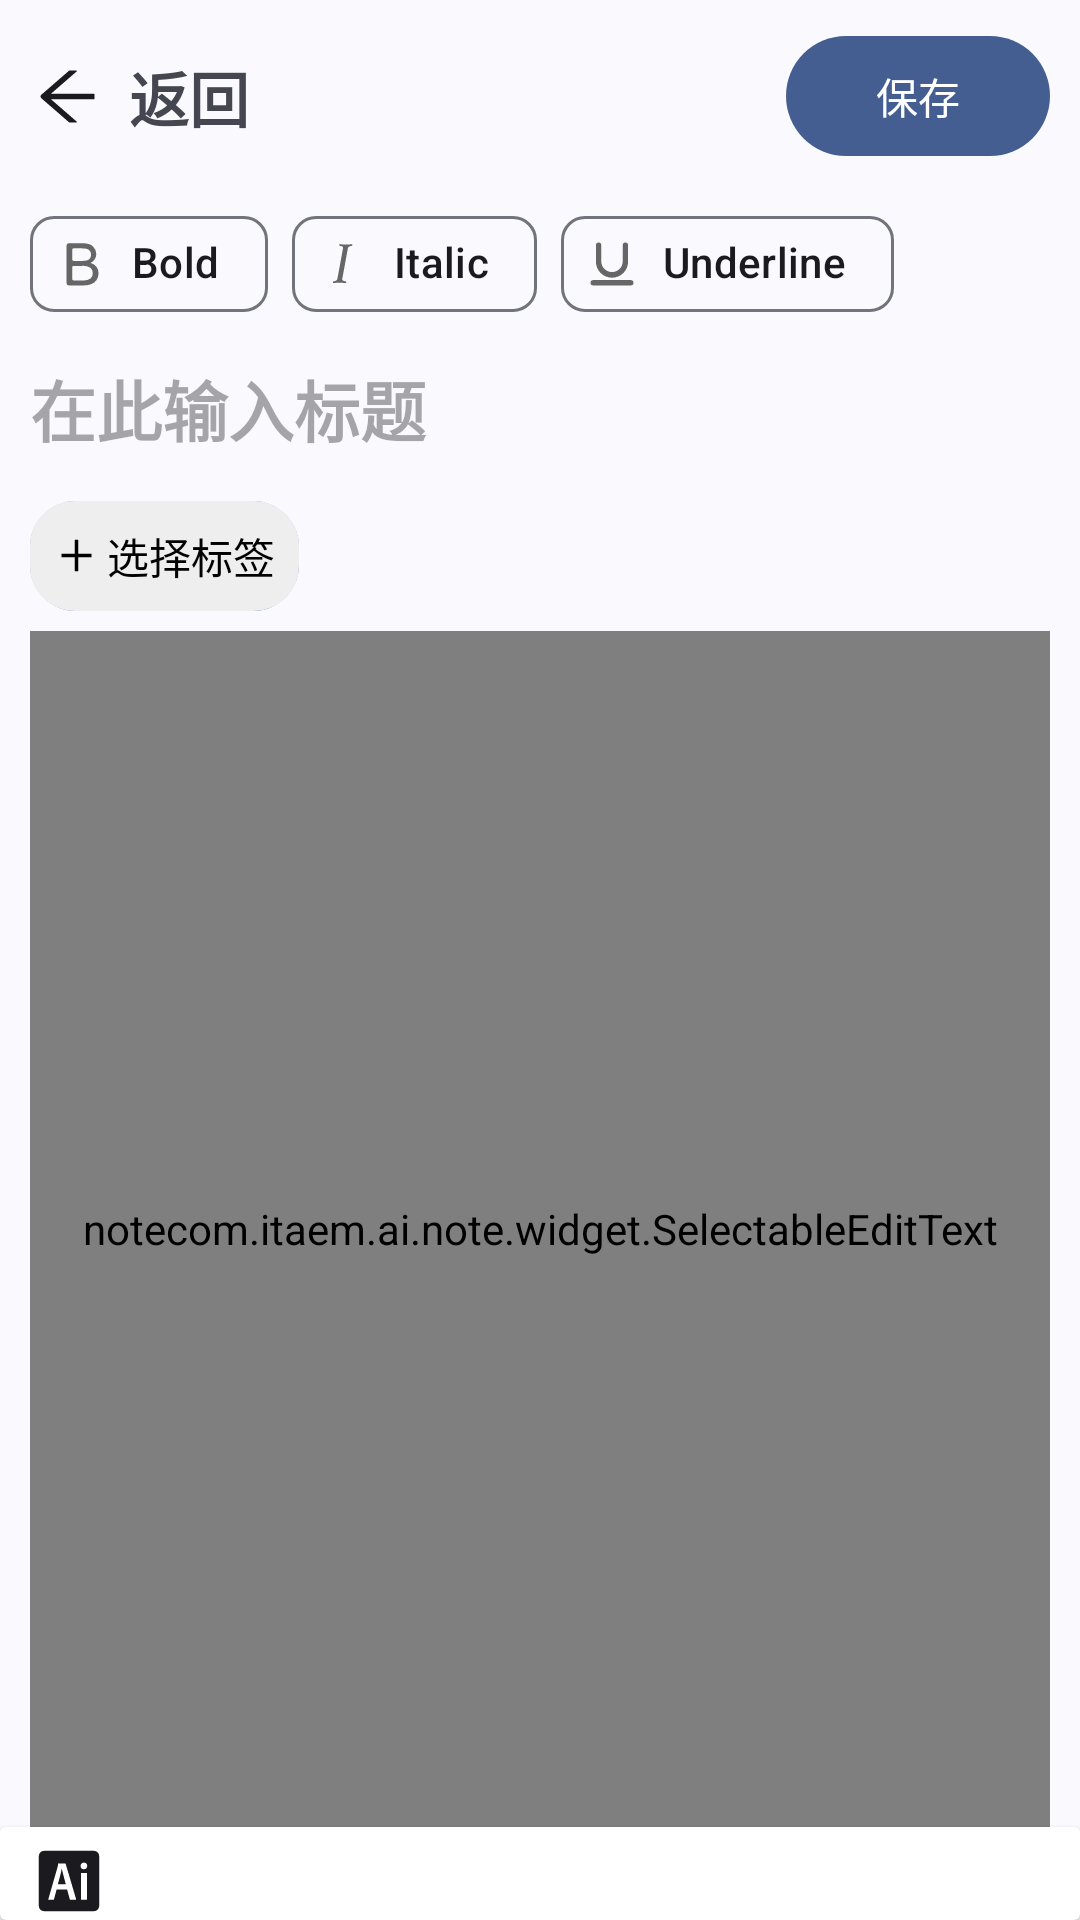

Where icons sit on this 1080*1920 app screen, as (x1,y1,x2,y2):
arrowleft: (40,70,95,123)
plus: (61,539,92,572)
